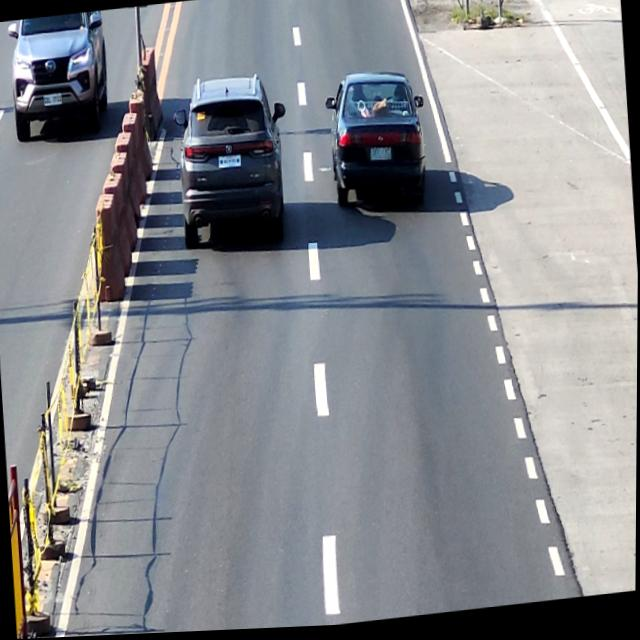Car: (170, 71, 295, 257), (323, 69, 431, 216), (6, 11, 111, 140)
License-Plate: (369, 149, 392, 165), (219, 157, 242, 171), (42, 94, 62, 106)
